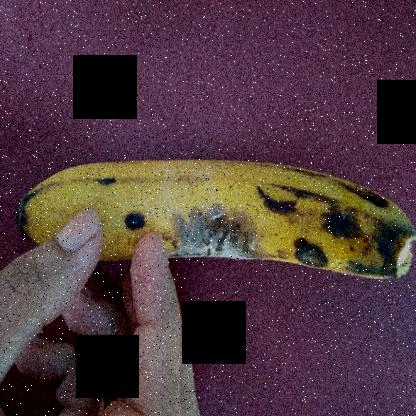ripe: (8, 126, 415, 284)
rotten: (159, 180, 271, 281)
